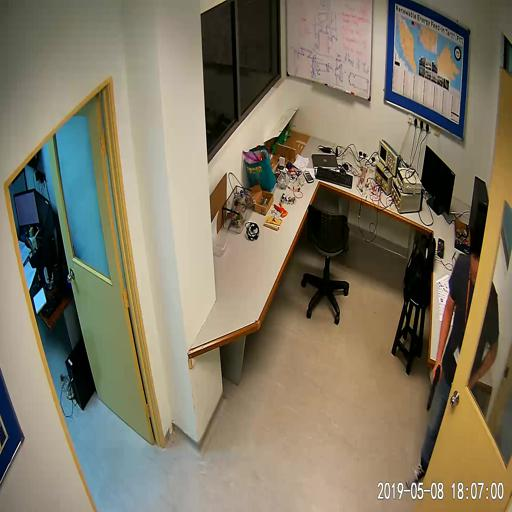pistol: (426, 365, 440, 411)
